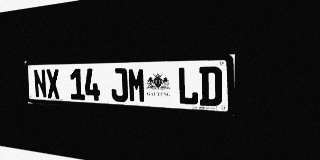1: (69, 69, 85, 100)
4: (84, 68, 100, 101)
D: (199, 66, 222, 107)
J: (110, 68, 128, 102)
L: (177, 67, 199, 105)
M: (128, 68, 146, 103)
N: (33, 69, 47, 98)
X: (46, 69, 60, 99)
